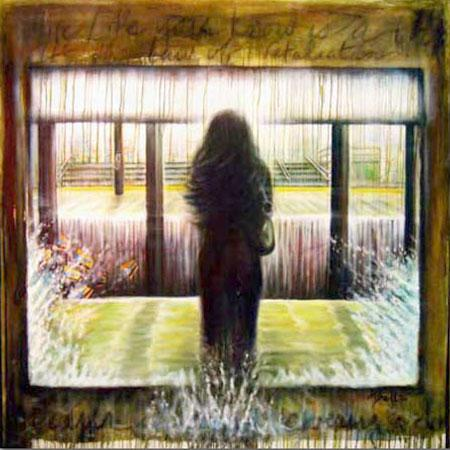person: (186, 111, 280, 382)
